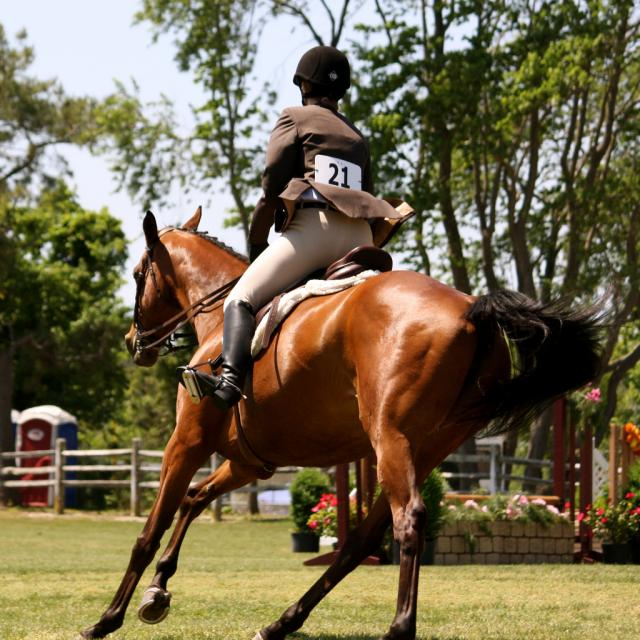Horse: (79, 205, 636, 640)
